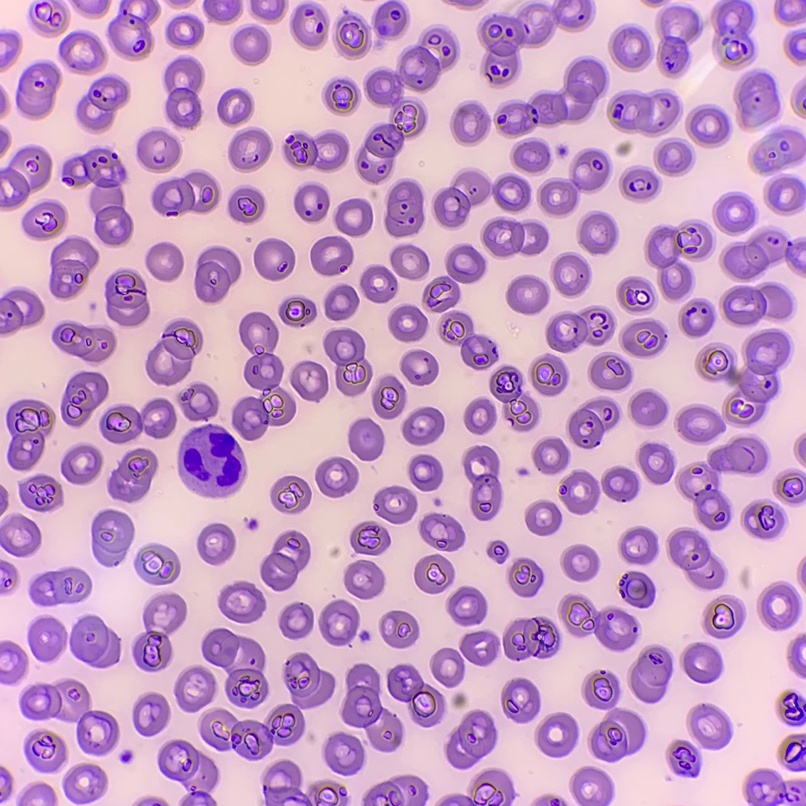RBC: (355, 28, 457, 183), (199, 652, 334, 758), (478, 0, 591, 87), (696, 329, 788, 427), (494, 60, 605, 137), (676, 436, 766, 530), (232, 312, 295, 439), (21, 678, 119, 753), (62, 149, 132, 246), (582, 670, 644, 760), (341, 663, 401, 750), (645, 222, 711, 300), (202, 628, 268, 706), (178, 424, 246, 497), (537, 151, 608, 215), (559, 594, 637, 650), (720, 230, 805, 281), (133, 593, 186, 670), (158, 739, 218, 805), (263, 760, 344, 805), (146, 319, 202, 384), (7, 399, 55, 471), (100, 398, 176, 443), (667, 528, 723, 589), (387, 664, 443, 725), (439, 312, 496, 369), (489, 365, 538, 431), (323, 329, 371, 395), (433, 171, 489, 227), (0, 148, 51, 209), (546, 306, 613, 352), (607, 93, 678, 136), (720, 283, 791, 326), (656, 7, 699, 77), (108, 0, 159, 59), (260, 530, 310, 590), (50, 236, 98, 298), (152, 172, 220, 215), (445, 710, 496, 767), (77, 77, 129, 132), (463, 446, 501, 520), (711, 0, 751, 69), (53, 321, 116, 364), (107, 448, 157, 502), (165, 58, 203, 128), (567, 397, 618, 448), (71, 615, 120, 667), (61, 372, 108, 426), (195, 246, 240, 302), (481, 219, 547, 257), (627, 645, 671, 702), (283, 133, 348, 171), (106, 269, 149, 326), (734, 73, 778, 128), (503, 616, 559, 659), (751, 130, 805, 174), (17, 64, 60, 118), (743, 768, 805, 805), (92, 509, 133, 564), (451, 769, 512, 805), (32, 568, 91, 605), (384, 181, 423, 236), (0, 289, 44, 336), (218, 581, 265, 622), (757, 582, 798, 629), (675, 404, 723, 444), (228, 127, 271, 171), (175, 666, 217, 711), (687, 703, 729, 748), (137, 130, 180, 172), (535, 713, 577, 756), (61, 33, 106, 73), (25, 729, 67, 771), (609, 28, 650, 71), (0, 513, 41, 556), (319, 600, 359, 644), (315, 457, 358, 497), (619, 319, 664, 357), (61, 443, 102, 484), (136, 545, 179, 584), (290, 5, 328, 49), (22, 201, 66, 239), (419, 513, 464, 550), (254, 239, 294, 280), (741, 499, 782, 539), (686, 108, 728, 147), (703, 595, 742, 637), (560, 470, 598, 513), (501, 678, 539, 721), (19, 474, 63, 511), (680, 642, 720, 682), (311, 236, 352, 275), (506, 275, 547, 314), (324, 732, 363, 773), (570, 766, 611, 805), (65, 763, 107, 801), (29, 617, 66, 660), (552, 253, 588, 297), (446, 586, 486, 625), (177, 382, 218, 420), (402, 407, 443, 445), (197, 523, 235, 564), (588, 353, 630, 390), (374, 486, 416, 523), (334, 15, 370, 58), (133, 692, 169, 735), (713, 196, 753, 234), (344, 560, 384, 598), (348, 418, 384, 460), (764, 178, 804, 215), (290, 361, 327, 401), (636, 443, 672, 484), (372, 375, 406, 418), (446, 245, 484, 283), (415, 555, 453, 593), (451, 104, 488, 143), (578, 214, 615, 253), (388, 304, 427, 341), (271, 476, 310, 513), (530, 355, 566, 395), (232, 27, 270, 64), (334, 199, 372, 236), (146, 243, 183, 281), (619, 526, 656, 564), (372, 1, 408, 40), (379, 611, 418, 647), (360, 265, 397, 302), (629, 389, 666, 426), (228, 185, 264, 223), (294, 182, 329, 221), (492, 176, 529, 212), (532, 437, 568, 474), (561, 545, 598, 580), (460, 630, 497, 665), (390, 245, 428, 279), (678, 299, 712, 337), (508, 558, 542, 596), (350, 521, 389, 554), (323, 80, 359, 115), (218, 90, 253, 126), (423, 277, 459, 312), (617, 277, 653, 312), (602, 466, 638, 501), (619, 571, 654, 607), (654, 142, 691, 176), (400, 350, 437, 384), (430, 648, 463, 686), (525, 500, 560, 535), (32, 2, 68, 36), (408, 454, 442, 490), (279, 602, 313, 638), (511, 141, 549, 173), (619, 169, 657, 201), (324, 284, 358, 319), (0, 641, 27, 683), (167, 16, 203, 47), (464, 398, 495, 434), (773, 470, 805, 504), (279, 296, 315, 326), (666, 740, 698, 773), (364, 781, 403, 805), (778, 734, 805, 768), (204, 0, 242, 23), (20, 782, 57, 805), (250, 0, 286, 23), (777, 690, 804, 720), (399, 775, 426, 805), (774, 0, 805, 25), (788, 633, 805, 677), (0, 34, 21, 69), (71, 0, 109, 17), (784, 34, 805, 64), (0, 560, 18, 589), (791, 81, 805, 116), (0, 767, 13, 799), (487, 541, 507, 561), (534, 794, 564, 805), (794, 435, 805, 464), (449, 0, 483, 8), (0, 127, 10, 153), (0, 488, 8, 511), (0, 90, 7, 115), (798, 561, 805, 586), (453, 694, 465, 706), (168, 0, 190, 6), (618, 143, 629, 154), (645, 0, 663, 6), (123, 750, 131, 758), (136, 800, 145, 805), (157, 801, 165, 805)
